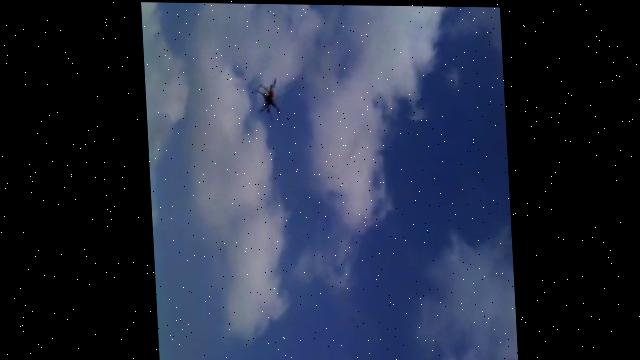drone: (253, 75, 282, 119)
